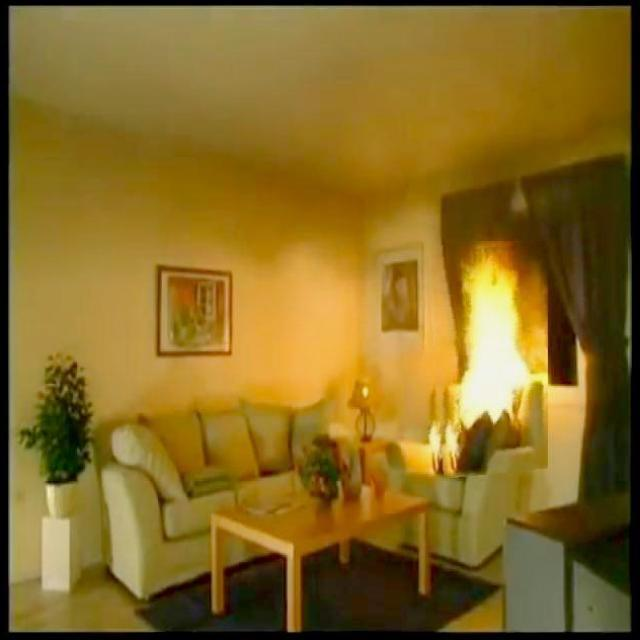smoke: (455, 240, 548, 430)
